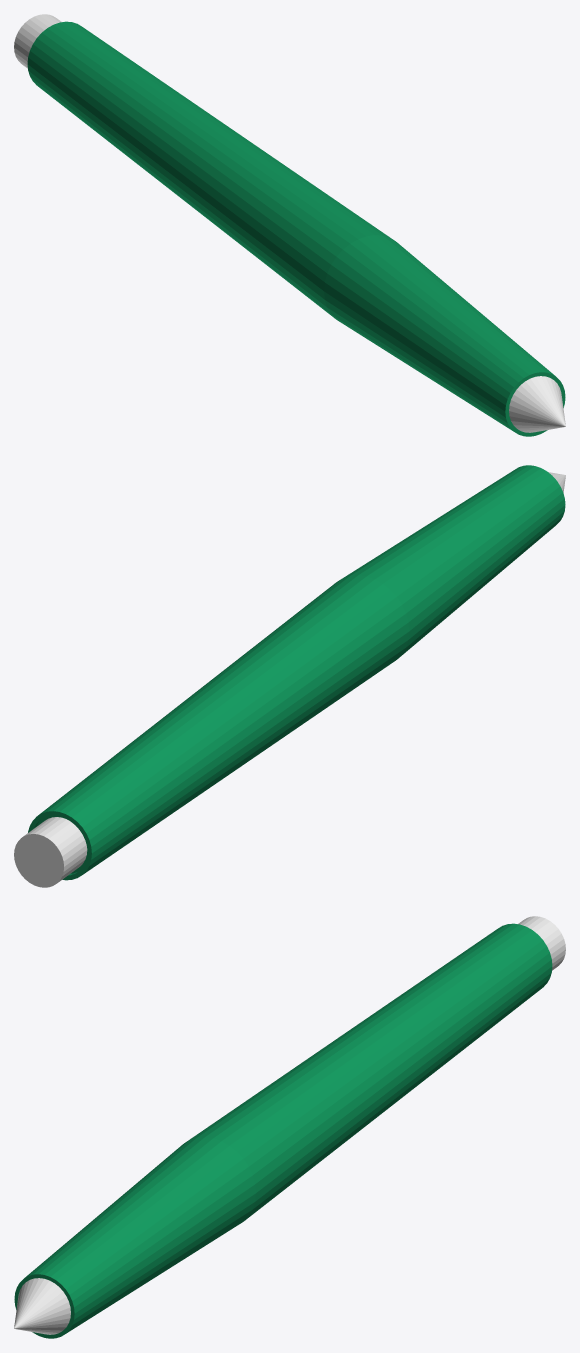
File: BallpointPen1.fbx
3 views of the same model, one above another, from view 1: azimuth 30°, elevation 25°; view 2: azimuth 150°, elevation 25°; view 3: azimuth 330°, elevation 25° (orthographic).
Visible parts, largest first — view 1: ballpoint_pen_0; view 2: ballpoint_pen_0; view 3: ballpoint_pen_0.
Part boxes in pixels (left/top/right/bottom): ballpoint_pen_0: left=14, top=14, right=565, bottom=436; ballpoint_pen_0: left=14, top=465, right=565, bottom=887; ballpoint_pen_0: left=14, top=916, right=565, bottom=1338.
Size of the model in its own units: 0.02 by 0.2141 by 0.02.
